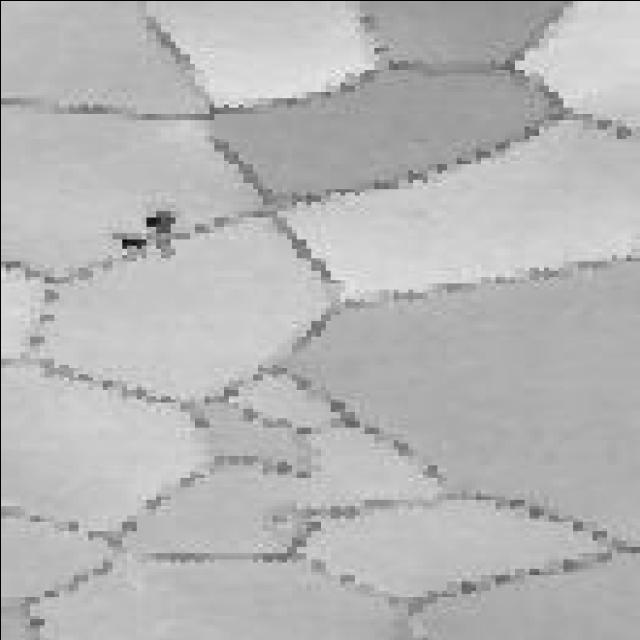good_void: (144, 208, 175, 236), (117, 236, 146, 250)
